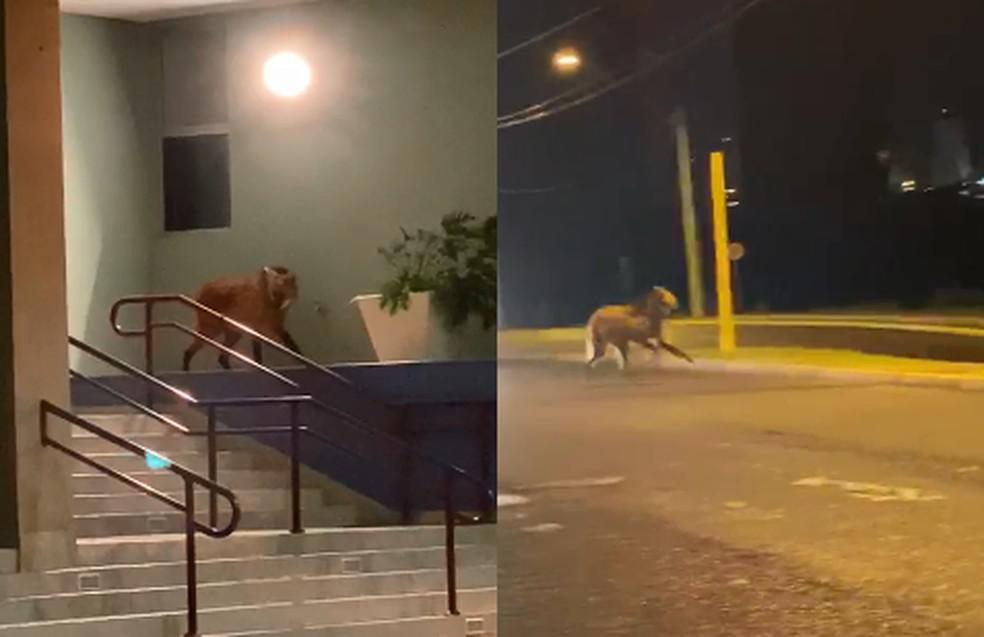LoboGuara: (176, 263, 309, 381), (580, 280, 693, 380)
